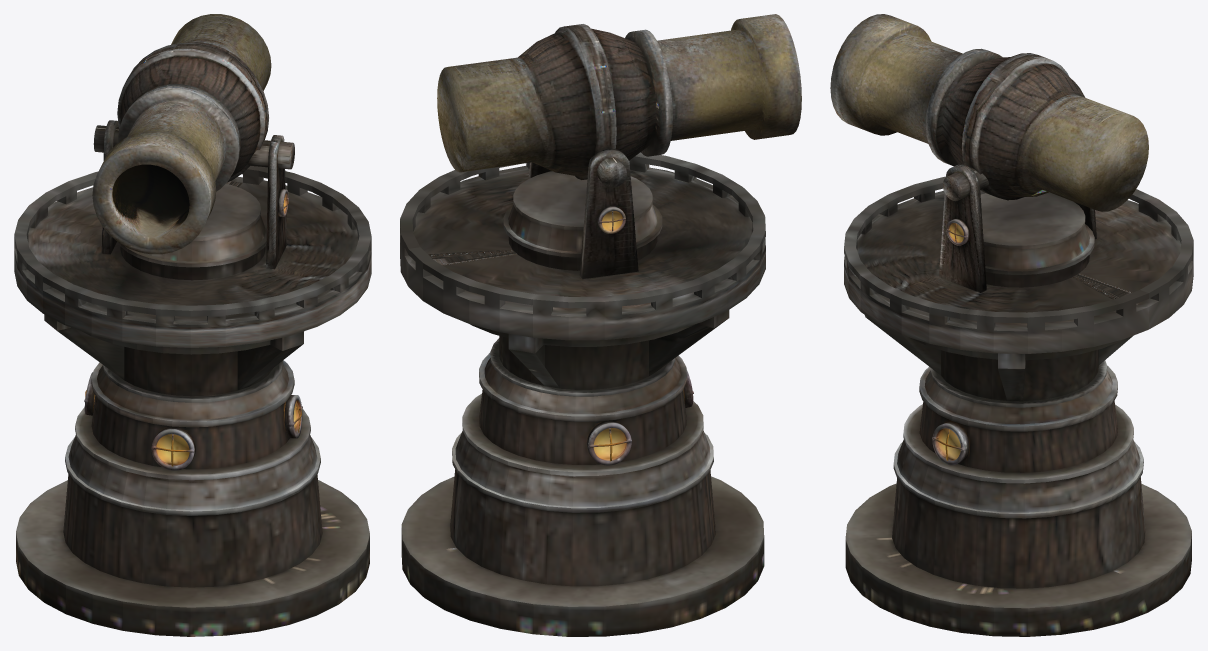
The model's file is Connon Tower.fbx.
3 renders of one model, left to right at view 1: azimuth 30°, elevation 25°; view 2: azimuth 150°, elevation 25°; view 3: azimuth 270°, elevation 25°, orthographic. The views are drawn at different scales.
Visible parts, largest first — view 1: Connon Tower; view 2: Connon Tower; view 3: Connon Tower.
Part boxes in pixels (bbox=[...]): Connon Tower: bbox=[14, 14, 371, 636]; Connon Tower: bbox=[400, 14, 801, 636]; Connon Tower: bbox=[830, 14, 1193, 636].
Size of the model in its own units: 5.95 by 9.39 by 6.13.
Materials: 10 (10 with a texture image).
